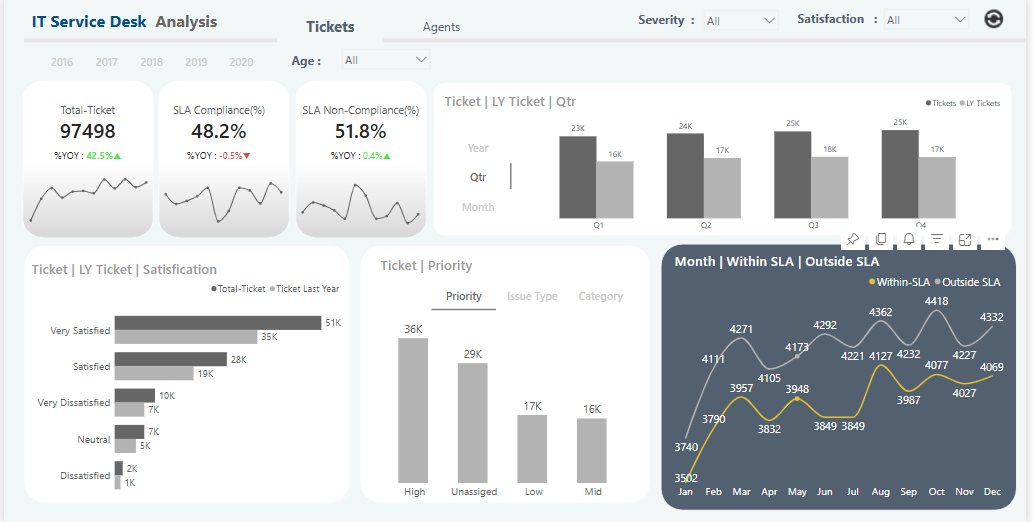

This screenshot's page, from the dashboard's own definition file:
{"tool":"powerbi","page":{"name":"Tickets","canvas":[2029,1050],"ordinal":0},"visuals":[{"type":"shape","box":[698,484,592,528],"z":0},{"type":"shape","box":[1303.4,490.5,705.4,528.5],"z":1000},{"type":"shape","box":[843.8,161.6,1165.1,321.3],"z":2000},{"type":"clusteredColumnChart","title":"Ticket | LY Ticket | Satisfication","fields":{"Category":["Calendar.Qtr"],"Y":["_Measure.Total-Ticket","_Measure.Ticket Last Year"]},"box":[1013.3,189.2,975.8,285.8],"z":3000},{"type":"shape","box":[31.4,483.7,662.9,528],"z":4000},{"type":"image","box":[301.6,161.6,270,323],"z":5000},{"type":"image","box":[573.7,161.6,270,323],"z":6000},{"type":"cardVisual","fields":{"Data":["_Measure.SLA Compliance(%)"]},"box":[309.4,192.7,234.9,139.2],"z":7000},{"type":"cardVisual","fields":{"Data":["_Measure.SLA Non-Compliance"]},"box":[572.7,192.7,269.3,150],"z":8000},{"type":"lineChart","fields":{"Category":["Calendar.MonthName"],"Y":["_Measure.SLA Compliance(%)"]},"box":[307.5,345,256,120],"z":9000},{"type":"lineChart","fields":{"Category":["Calendar.MonthName"],"Y":["_Measure.SLA Non-Compliance"]},"box":[578.8,345,256,120],"z":10000},{"type":"shape","box":[39.2,70.1,2036.1,33],"z":11000},{"type":"pageNavigator","box":[542,22,432,70],"z":12000},{"type":"image","box":[31.5,161.6,270,323],"z":13000},{"type":"cardVisual","fields":{"Data":["_Measure.Total Ticket"]},"box":[50,192.7,233.7,148.9],"z":14000},{"type":"lineChart","fields":{"Category":["Calendar.MonthName"],"Y":["_Measure.Total Ticket"]},"box":[39.4,345,256,120],"z":15000},{"type":"advancedSlicerVisual","fields":{"Values":["Calendar.Year"]},"box":[69.8,91.1,449.8,72.2],"z":16000},{"type":"clusteredBarChart","title":"Ticket | LY Ticket | Satisfication","fields":{"Y":["_Measure.Total-Ticket","_Measure.Ticket Last Year"],"Category":["Tickets.Satisfaction Label"]},"box":[49.3,519.6,627.1,492.7],"z":17000},{"type":"slicer","fields":{"Values":["IT Agents.Age Segement"]},"box":[661.6,93.5,194.8,62.5],"z":18000},{"type":"textbox","box":[565.8,102.5,96.6,45.3],"z":19000},{"type":"advancedSlicerVisual","fields":{"Values":["Date Frame .Date Frame "]},"box":[869.4,266.1,143.9,179.4],"z":20000},{"type":"cardVisual","fields":{"Data":["_Measure.Heading4"]},"box":[857.5,163.6,435.7,72.9],"z":21000},{"type":"lineChart","title":"Month | Within SLA | Outside SLA","fields":{"Category":["Calendar.MonthName"],"Y":["_Measure.Within-SLA","_Measure.Outside SLA"]},"box":[1325.8,503.9,662.9,501.7],"z":22000},{"type":"textbox","box":[49.5,20.6,434.8,53.6],"z":23000},{"type":"clusteredColumnChart","title":"Ticket | LY Ticket | Satisfication","fields":{"Category":["Tickets.Priority"],"Y":["_Measure.Total-Ticket"]},"box":[730.1,627.1,524,378.5],"z":24000},{"type":"advancedSlicerVisual","fields":{"Values":["Problem Type.Request Category"]},"box":[844.3,555.4,412.1,71.7],"z":25000},{"type":"slicer","fields":{"Values":["Tickets.Severity"]},"box":[1378.8,15.6,167.6,53.2],"z":26000},{"type":"slicer","fields":{"Values":["Tickets.Satisfaction Label"]},"box":[1737.3,13.9,189.2,52.6],"z":27000},{"type":"textbox","box":[1254.8,21,143.9,47.3],"z":28000},{"type":"textbox","box":[1569.3,19,181.4,47.3],"z":29000},{"type":"image","box":[1941.9,20.7,47,47],"z":30000},{"type":"cardVisual","fields":{"Data":["_Measure.Heading5"]},"box":[730.1,488.2,436.7,71.7],"z":31000}]}

Visuals, with their boxes in screenshot pixels (x1, y1, x2, y2), scaled from the page's 2029x1050 canvas onto the 1034x522 screenshot:
shape: 356, 241, 657, 503
shape: 664, 244, 1024, 507
shape: 430, 80, 1024, 240
"Ticket | LY Ticket | Satisfication" clusteredColumnChart: 516, 94, 1014, 236
shape: 16, 240, 354, 503
image: 154, 80, 291, 241
image: 292, 80, 430, 241
cardVisual - _Measure.SLA Compliance(%): 158, 96, 277, 165
cardVisual - _Measure.SLA Non-Compliance: 292, 96, 429, 170
lineChart - Calendar.MonthName x _Measure.SLA Compliance(%): 157, 172, 287, 231
lineChart - Calendar.MonthName x _Measure.SLA Non-Compliance: 295, 172, 425, 231
shape: 20, 35, 1033, 51
pageNavigator: 276, 11, 496, 46
image: 16, 80, 154, 241
cardVisual - _Measure.Total Ticket: 25, 96, 145, 170
lineChart - Calendar.MonthName x _Measure.Total Ticket: 20, 172, 151, 231
advancedSlicerVisual - Calendar.Year: 36, 45, 265, 81
"Ticket | LY Ticket | Satisfication" clusteredBarChart: 25, 258, 345, 503
slicer - IT Agents.Age Segement: 337, 46, 436, 78
textbox: 288, 51, 338, 73
advancedSlicerVisual - Date Frame .Date Frame : 443, 132, 516, 221
cardVisual - _Measure.Heading4: 437, 81, 659, 118
"Month | Within SLA | Outside SLA" lineChart: 676, 251, 1013, 500
textbox: 25, 10, 247, 37
"Ticket | LY Ticket | Satisfication" clusteredColumnChart: 372, 312, 639, 500
advancedSlicerVisual - Problem Type.Request Category: 430, 276, 640, 312
slicer - Tickets.Severity: 703, 8, 788, 34
slicer - Tickets.Satisfaction Label: 885, 7, 982, 33
textbox: 639, 10, 713, 34
textbox: 800, 9, 892, 33
image: 990, 10, 1014, 34
cardVisual - _Measure.Heading5: 372, 243, 595, 278
